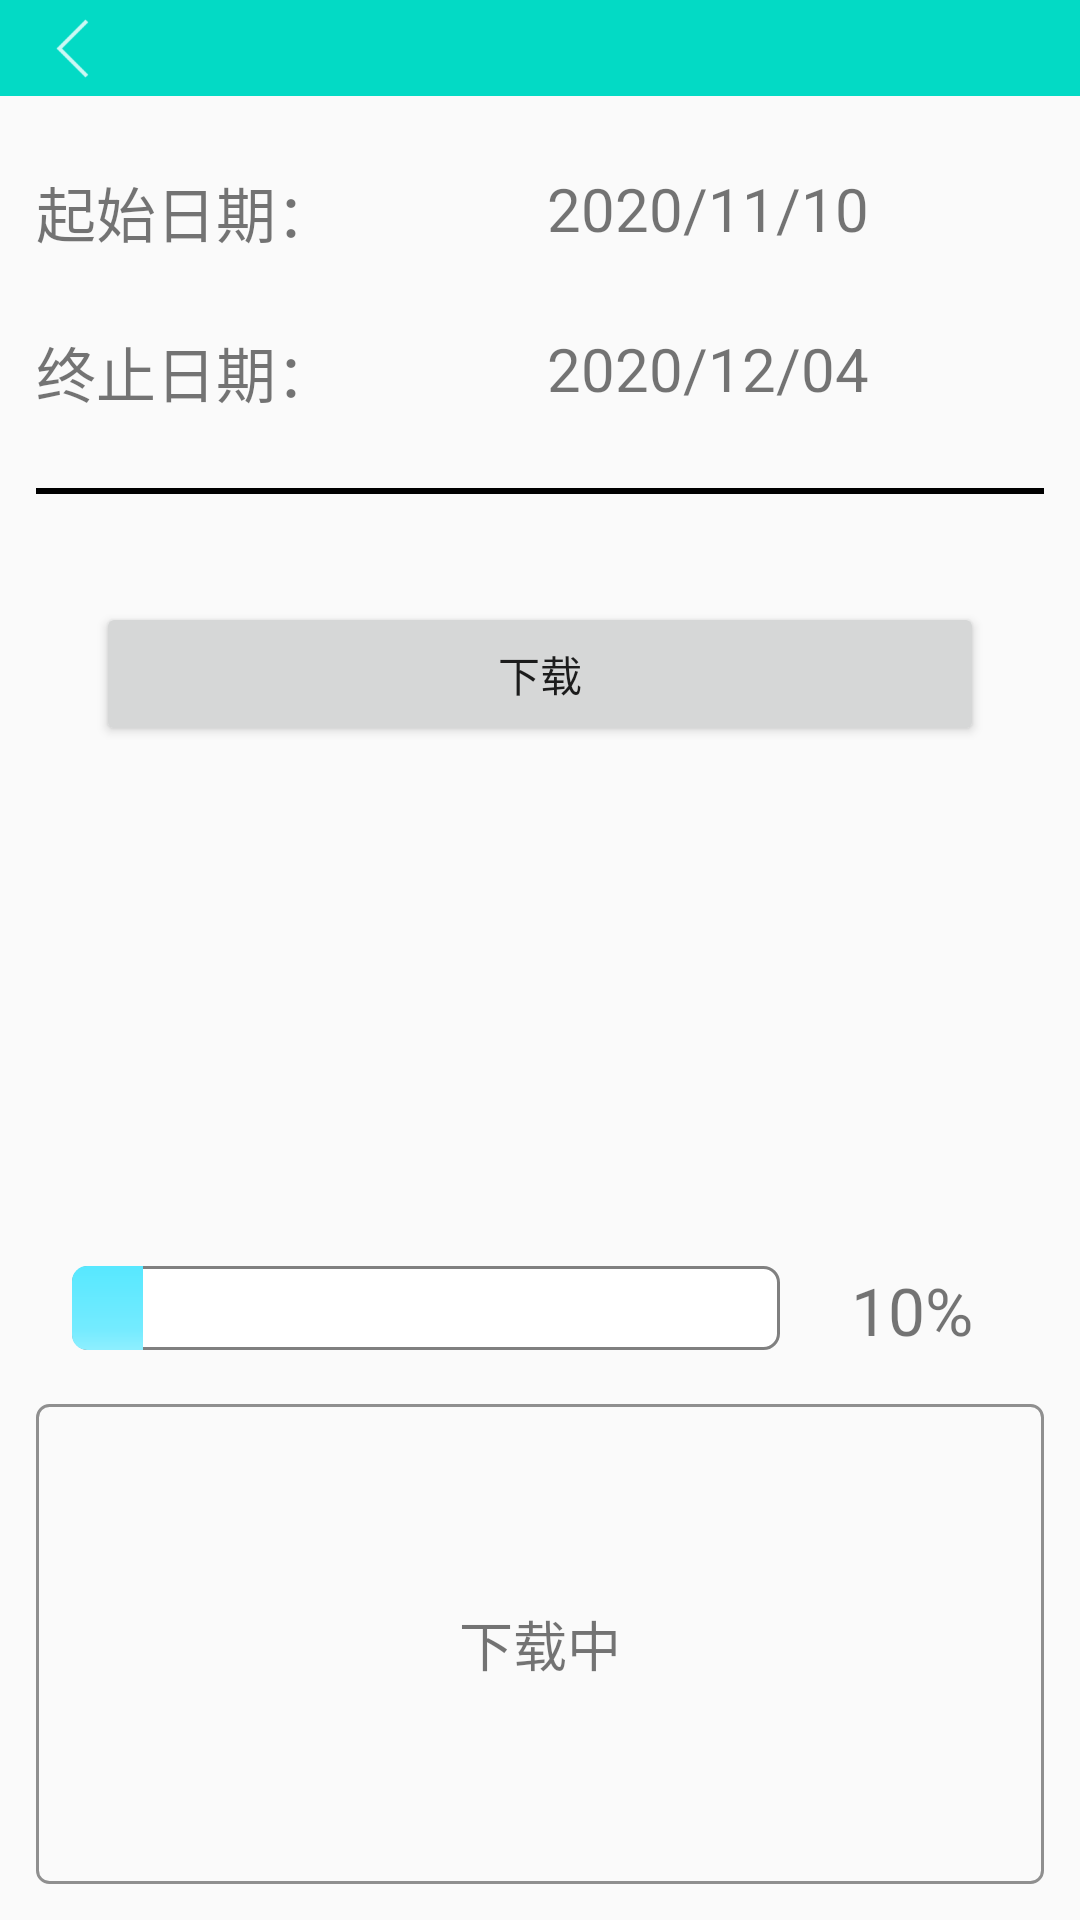

Locate icon controls on the screen. Image size 1080x1920, boxes as (x1, y1, x2, y2).
back: (56, 19, 88, 78)
